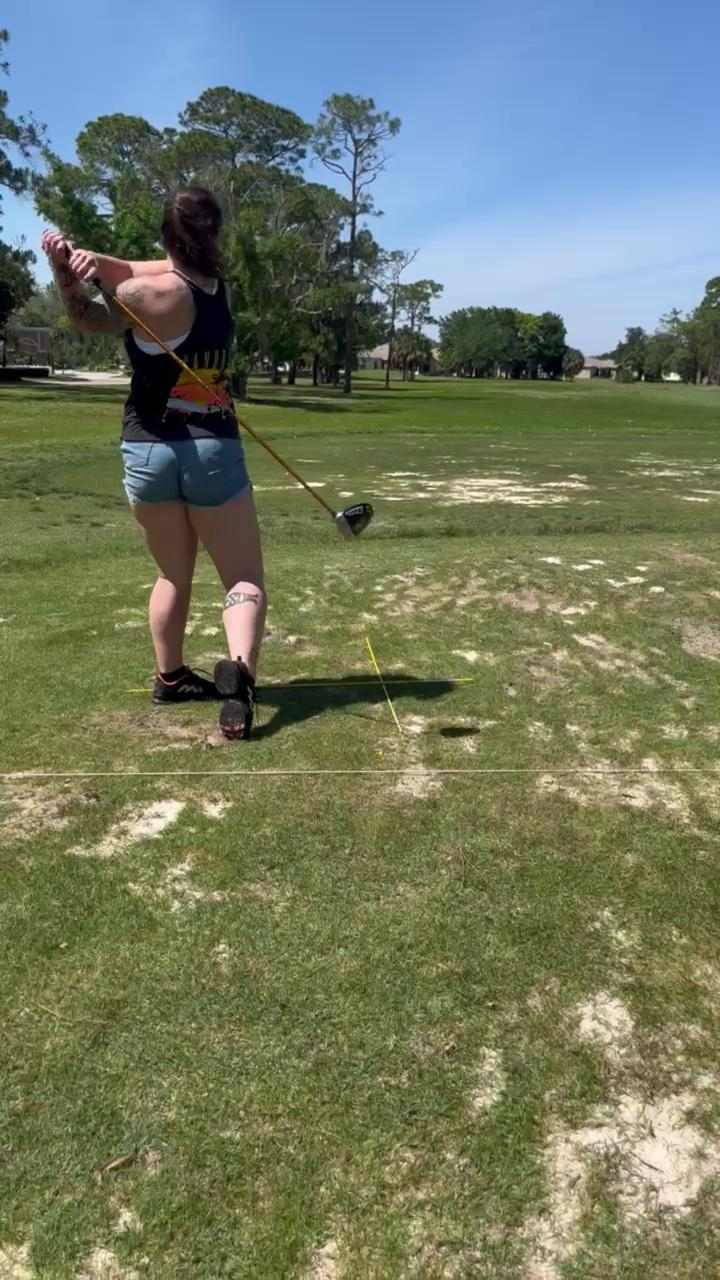ClubHead: (329, 488, 374, 555)
